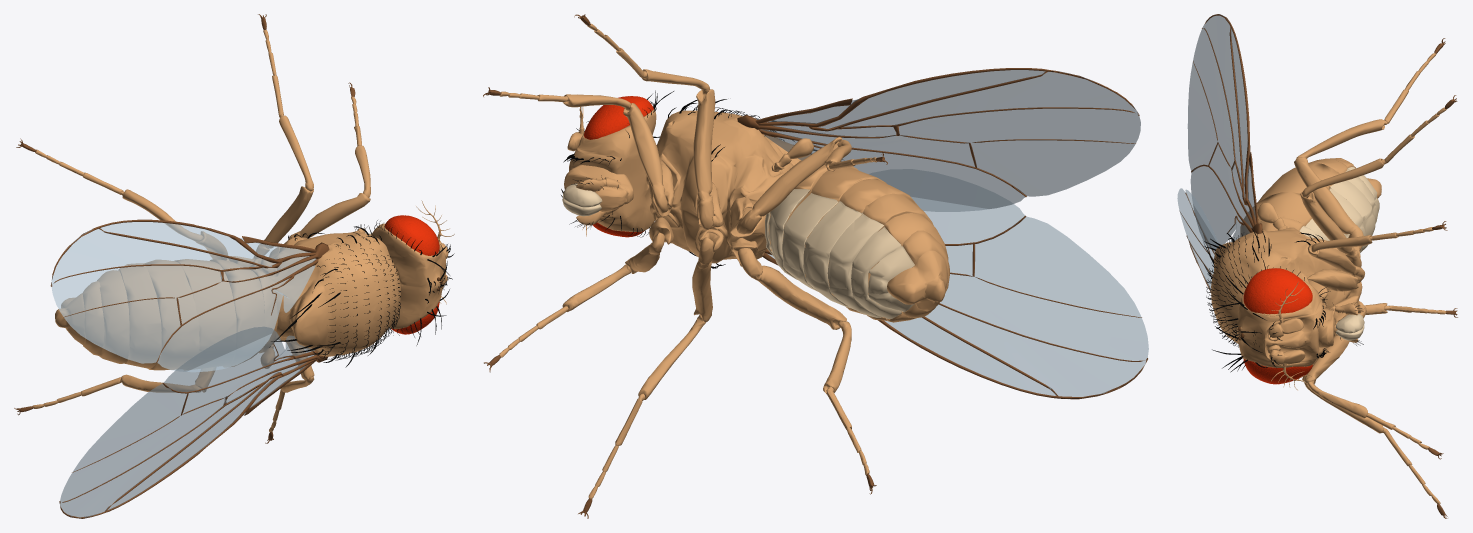
The model's file is flybody.glb.
The picture shows the model from 3 angles, left to right: view 1: azimuth 30°, elevation 25°; view 2: azimuth 150°, elevation 25°; view 3: azimuth 270°, elevation 25°; orthographic projection. The views are drawn at different scales.
Visible parts, largest first — view 1: visual_wing_left_membrane, visual_wing_right_membrane, visual_thorax, visual_abdomen_4, visual_wing_left_brown, visual_head, visual_wing_right_brown, visual_abdomen_3, visual_abdomen_5, visual_abdomen_6, visual_abdomen_2, visual_thorax_black (+10 smaller); view 2: visual_wing_right_membrane, visual_wing_left_membrane, visual_thorax, visual_wing_left_brown, visual_head, visual_abdomen_4_lower, visual_wing_right_brown, visual_abdomen_5_lower, visual_abdomen_8, visual_femur_T3_right, visual_femur_T2_left, visual_abdomen_3_lower (+17 smaller); view 3: visual_wing_left_membrane, visual_thorax, visual_head, visual_head_red, visual_wing_left_brown, visual_wing_right_membrane, visual_femur_T3_left, visual_thorax_black, visual_abdomen_2, visual_femur_T2_left, visual_abdomen_4_lower, visual_tibia_T3_left (+18 smaller).
Part boxes in pixels (bbox=[...]): visual_wing_left_membrane: bbox=[51, 222, 316, 372]; visual_wing_right_membrane: bbox=[60, 326, 314, 517]; visual_thorax: bbox=[252, 231, 400, 356]; visual_abdomen_4: bbox=[145, 260, 199, 370]; visual_wing_left_brown: bbox=[50, 219, 329, 362]; visual_head: bbox=[371, 223, 445, 329]; visual_wing_right_brown: bbox=[59, 343, 328, 518]; visual_abdomen_3: bbox=[175, 259, 236, 352]; visual_abdomen_5: bbox=[118, 263, 161, 368]; visual_abdomen_6: bbox=[97, 270, 129, 363]; visual_abdomen_2: bbox=[210, 259, 264, 366]; visual_thorax_black: bbox=[269, 226, 400, 367]; visual_wing_right_membrane: bbox=[768, 169, 1148, 399]; visual_wing_left_membrane: bbox=[760, 70, 1140, 211]; visual_thorax: bbox=[646, 110, 810, 263]; visual_wing_left_brown: bbox=[737, 68, 1139, 196]; visual_head: bbox=[569, 109, 656, 232]; visual_abdomen_4_lower: bbox=[803, 201, 861, 309]; visual_wing_right_brown: bbox=[763, 215, 1147, 399]; visual_abdomen_5_lower: bbox=[827, 209, 883, 317]; visual_abdomen_8: bbox=[887, 250, 948, 311]; visual_femur_T3_right: bbox=[738, 248, 846, 329]; visual_femur_T2_left: bbox=[693, 89, 715, 230]; visual_abdomen_3_lower: bbox=[782, 192, 838, 291]; visual_wing_left_membrane: bbox=[1187, 14, 1255, 249]; visual_thorax: bbox=[1211, 227, 1344, 344]; visual_head: bbox=[1237, 279, 1323, 367]; visual_head_red: bbox=[1243, 268, 1312, 384]; visual_wing_left_brown: bbox=[1191, 14, 1262, 233]; visual_wing_right_membrane: bbox=[1177, 188, 1218, 290]; visual_femur_T3_left: bbox=[1294, 157, 1363, 250]; visual_thorax_black: bbox=[1203, 228, 1323, 347]; visual_abdomen_2: bbox=[1240, 192, 1311, 236]; visual_femur_T2_left: bbox=[1300, 192, 1361, 267]; visual_abdomen_4_lower: bbox=[1330, 180, 1375, 250]; visual_tibia_T3_left: bbox=[1296, 119, 1384, 158].
Size of the model in its own units: 0.3724 by 0.3461 by 0.2095.
